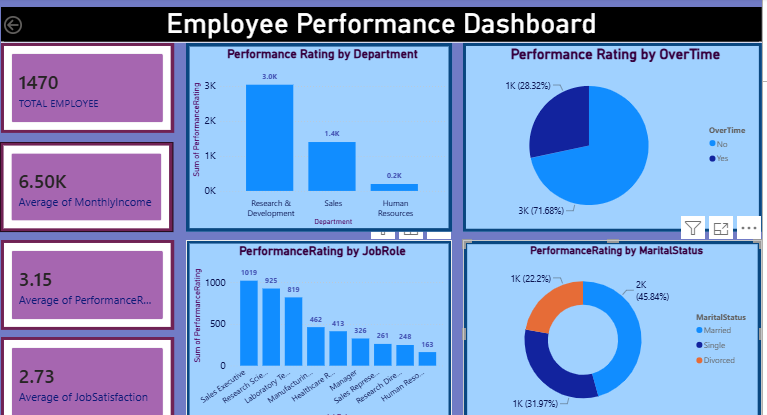

What the dashboard file says about the page in this screenshot:
{"tool":"powerbi","page":{"name":"PERFORMANCE","canvas":[1280,720],"ordinal":2},"visuals":[{"type":"textbox","title":"Employee Performance Dashboard","box":[1.7,15.1,1278.3,60.5],"z":0},{"type":"cardVisual","fields":{"Data":["WA_Fn-UseC_-HR-Employee-Attrition.TOTAL EMPLOYEE"]},"box":[1.7,75.6,290.6,151.2],"z":1000},{"type":"cardVisual","fields":{"Data":["Avg(WA_Fn-UseC_-HR-Employee-Attrition.JobSatisfaction)"]},"box":[1.7,569.4,290.6,151.2],"z":2000},{"type":"cardVisual","fields":{"Data":["Avg(WA_Fn-UseC_-HR-Employee-Attrition.PerformanceRating)"]},"box":[1.7,406.5,290.6,151.2],"z":3000},{"type":"cardVisual","fields":{"Data":["Avg(WA_Fn-UseC_-HR-Employee-Attrition.MonthlyIncome)"]},"box":[0,241.9,290.6,151.2],"z":4000},{"type":"columnChart","title":"PerformanceRating by JobRole","fields":{"Category":["WA_Fn-UseC_-HR-Employee-Attrition.JobRole"],"Y":["Sum(WA_Fn-UseC_-HR-Employee-Attrition.PerformanceRating)"]},"box":[312.4,406.5,446.8,314.1],"z":5000},{"type":"pieChart","title":"Performance Rating by OverTime","fields":{"Category":["WA_Fn-UseC_-HR-Employee-Attrition.OverTime"],"Y":["Sum(WA_Fn-UseC_-HR-Employee-Attrition.PerformanceRating)"]},"box":[777.7,75.6,502.3,317.5],"z":6000},{"type":"donutChart","title":"PerformanceRating by MaritalStatus","fields":{"Category":["WA_Fn-UseC_-HR-Employee-Attrition.MaritalStatus"],"Y":["Sum(WA_Fn-UseC_-HR-Employee-Attrition.PerformanceRating)"]},"box":[777.7,406.5,502.3,314.1],"z":7000},{"type":"columnChart","title":"Performance Rating by Department","fields":{"Category":["WA_Fn-UseC_-HR-Employee-Attrition.Department"],"Y":["Sum(WA_Fn-UseC_-HR-Employee-Attrition.PerformanceRating)"]},"box":[312.4,75.6,446.8,317.5],"z":8000},{"type":"actionButton","box":[1.7,25.2,40.3,40.3],"z":9000}]}

Visuals, with their boxes in screenshot pixels (x1, y1, x2, y2):
"Employee Performance Dashboard" textbox: <region>3, 7, 757, 43</region>
cardVisual - WA_Fn-UseC_-HR-Employee-Attrition.TOTAL EMPLOYEE: <region>3, 43, 174, 132</region>
cardVisual - Avg(WA_Fn-UseC_-HR-Employee-Attrition.JobSatisfaction): <region>3, 334, 174, 414</region>
cardVisual - Avg(WA_Fn-UseC_-HR-Employee-Attrition.PerformanceRating): <region>3, 238, 174, 327</region>
cardVisual - Avg(WA_Fn-UseC_-HR-Employee-Attrition.MonthlyIncome): <region>2, 141, 173, 230</region>
"PerformanceRating by JobRole" columnChart: <region>186, 238, 450, 414</region>
"Performance Rating by OverTime" pieChart: <region>461, 43, 757, 230</region>
"PerformanceRating by MaritalStatus" donutChart: <region>461, 238, 757, 414</region>
"Performance Rating by Department" columnChart: <region>186, 43, 450, 230</region>
actionButton: <region>3, 13, 27, 37</region>
